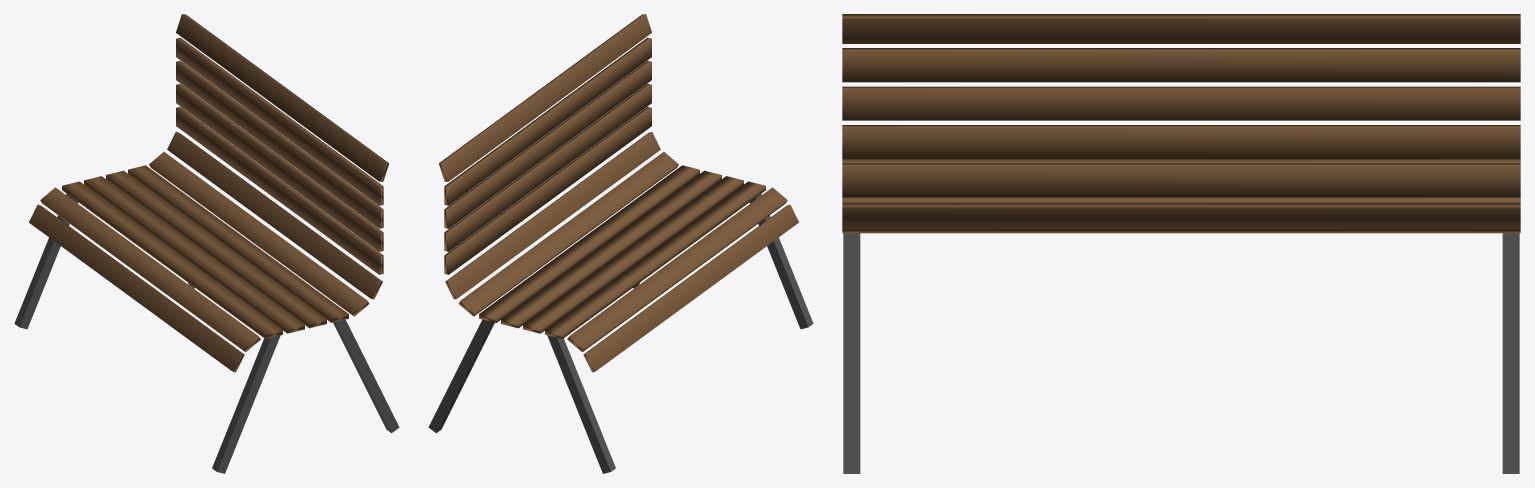
The model's file is park bench.fbx.
The picture shows the model from 3 angles, left to right: view 1: azimuth 30°, elevation 25°; view 2: azimuth 150°, elevation 25°; view 3: azimuth 270°, elevation 25°; orthographic projection. The views are drawn at different scales.
Parts seen in each view (by area): view 1: Cube.005; view 2: Cube.005; view 3: Cube.005.
Boxes of the visible parts, x1,y1,x2,y2 form: Cube.005: [14, 14, 399, 473]; Cube.005: [428, 14, 813, 473]; Cube.005: [842, 14, 1520, 473].
Bounding box in the file's own units: 415 × 591 × 800.
